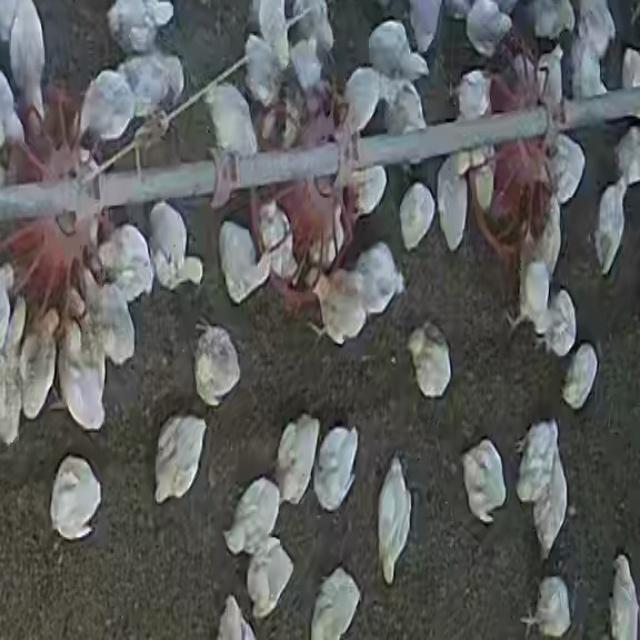chicken: (84, 269, 138, 369), (146, 202, 206, 292), (151, 413, 207, 504), (95, 221, 157, 303), (66, 67, 134, 141), (8, 1, 48, 120), (378, 458, 412, 584), (366, 21, 430, 87), (52, 457, 102, 541), (192, 322, 240, 407), (118, 54, 187, 113), (224, 478, 279, 552), (60, 318, 96, 431), (315, 271, 369, 346), (200, 84, 256, 155), (351, 243, 404, 318), (515, 421, 561, 507), (218, 222, 268, 299), (22, 312, 58, 414), (315, 428, 359, 511), (312, 568, 362, 640), (461, 439, 503, 524), (105, 0, 177, 49), (277, 415, 318, 501), (438, 154, 472, 253), (406, 322, 450, 398), (256, 199, 296, 282), (249, 545, 293, 619), (3, 306, 26, 441), (534, 461, 566, 557), (594, 181, 627, 274), (242, 33, 282, 109), (341, 66, 383, 138), (462, 0, 513, 58), (528, 576, 572, 638), (288, 1, 334, 60), (398, 181, 436, 251), (519, 259, 552, 338), (573, 0, 615, 60), (612, 552, 640, 640), (310, 203, 348, 267), (288, 34, 326, 96), (385, 82, 427, 138), (542, 291, 576, 360), (553, 134, 586, 205), (530, 200, 562, 269), (256, 0, 289, 65), (563, 346, 597, 409), (349, 165, 386, 222), (524, 0, 575, 41), (455, 69, 492, 125), (568, 48, 606, 95), (613, 128, 640, 192), (215, 599, 256, 640), (540, 44, 564, 106), (412, 0, 440, 49), (477, 147, 497, 205), (621, 46, 640, 87)
